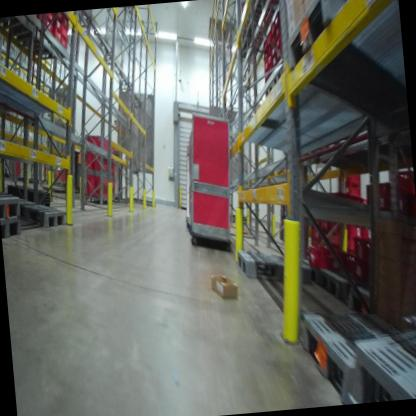pallet: (280, 0, 405, 150), (300, 296, 416, 406), (350, 325, 416, 403), (234, 240, 315, 291), (1, 176, 57, 239), (17, 197, 75, 238), (309, 259, 346, 308), (342, 277, 380, 314), (0, 191, 24, 219), (271, 68, 287, 88), (263, 80, 275, 99)
small_load_carrier: (328, 218, 373, 263), (360, 173, 395, 218), (299, 235, 338, 273), (325, 248, 360, 284), (350, 257, 379, 291), (354, 233, 380, 263), (335, 165, 364, 190), (329, 217, 360, 238), (336, 176, 362, 200), (307, 212, 331, 235), (39, 18, 55, 37), (58, 14, 72, 33), (54, 26, 65, 47), (61, 34, 69, 51), (62, 27, 71, 41), (55, 12, 66, 23), (56, 18, 64, 32), (46, 13, 55, 25)
